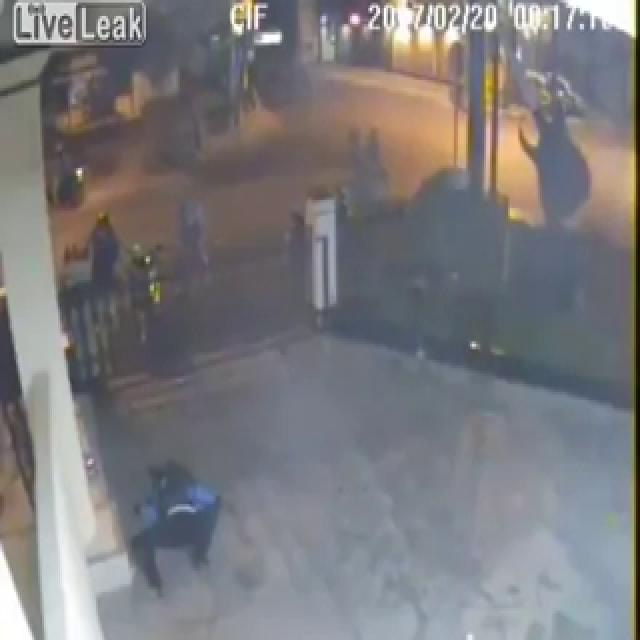road accidents: (55, 130, 298, 382)
